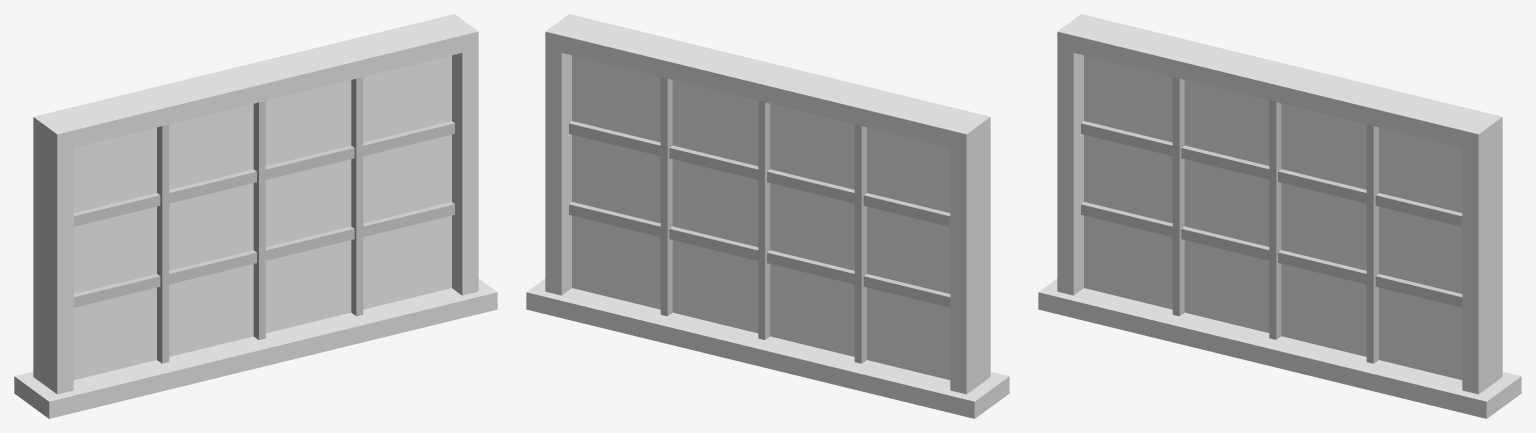
The model's file is window_004.fbx.
3 renders of one model, left to right at view 1: azimuth 30°, elevation 25°; view 2: azimuth 150°, elevation 25°; view 3: azimuth 330°, elevation 25°, orthographic.
Parts seen in each view (by area): view 1: window_004; view 2: window_004; view 3: window_004.
Part boxes in pixels (<box>): window_004: <box>14,14,497,418</box>; window_004: <box>526,14,1009,418</box>; window_004: <box>1038,14,1521,418</box>.
Bounding box in the file's own units: 318 × 42.75 × 188.
